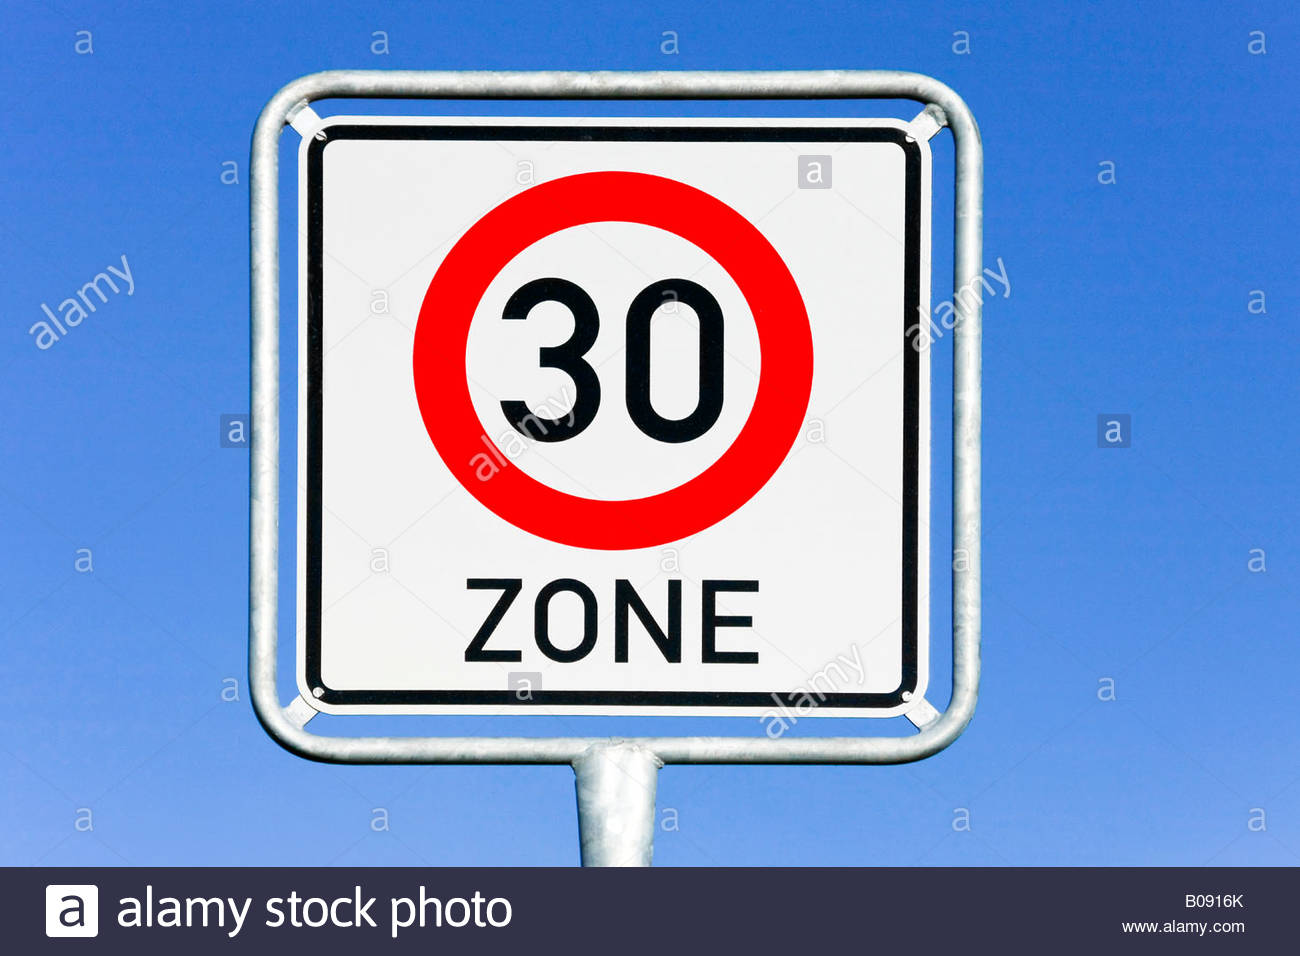Speed_limit_30km: (413, 170, 819, 554)
